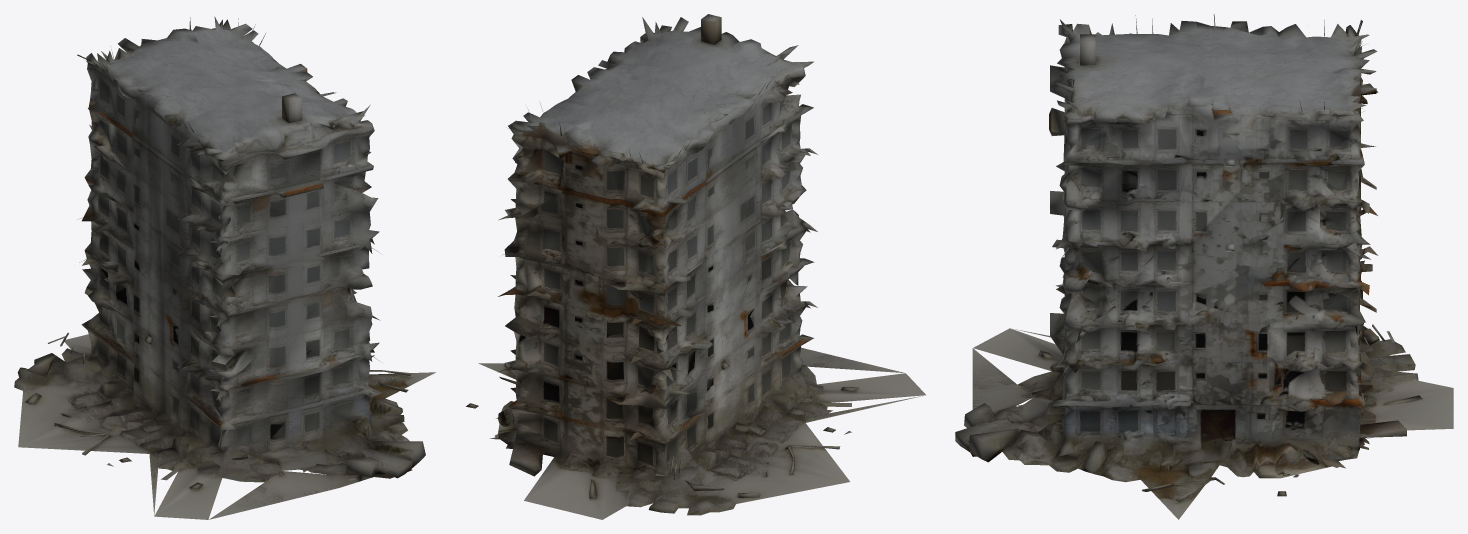
File: ruined_building_p1.glb
The picture shows the model from 3 angles, left to right: view 1: azimuth 30°, elevation 25°; view 2: azimuth 150°, elevation 25°; view 3: azimuth 270°, elevation 25°; orthographic projection. The views are drawn at different scales.
Visible parts, largest first — view 1: tripo_node_e43dfca8-5351-47a4-8066-63a164e3a2cb; view 2: tripo_node_e43dfca8-5351-47a4-8066-63a164e3a2cb; view 3: tripo_node_e43dfca8-5351-47a4-8066-63a164e3a2cb.
Boxes of the visible parts, left/top/right/bottom form: tripo_node_e43dfca8-5351-47a4-8066-63a164e3a2cb: left=14, top=16, right=435, bottom=519; tripo_node_e43dfca8-5351-47a4-8066-63a164e3a2cb: left=466, top=14, right=925, bottom=519; tripo_node_e43dfca8-5351-47a4-8066-63a164e3a2cb: left=955, top=14, right=1453, bottom=519.
Bounding box in the file's own units: 0.9863 × 0.8457 × 0.998.
1 material, 1 textured.
